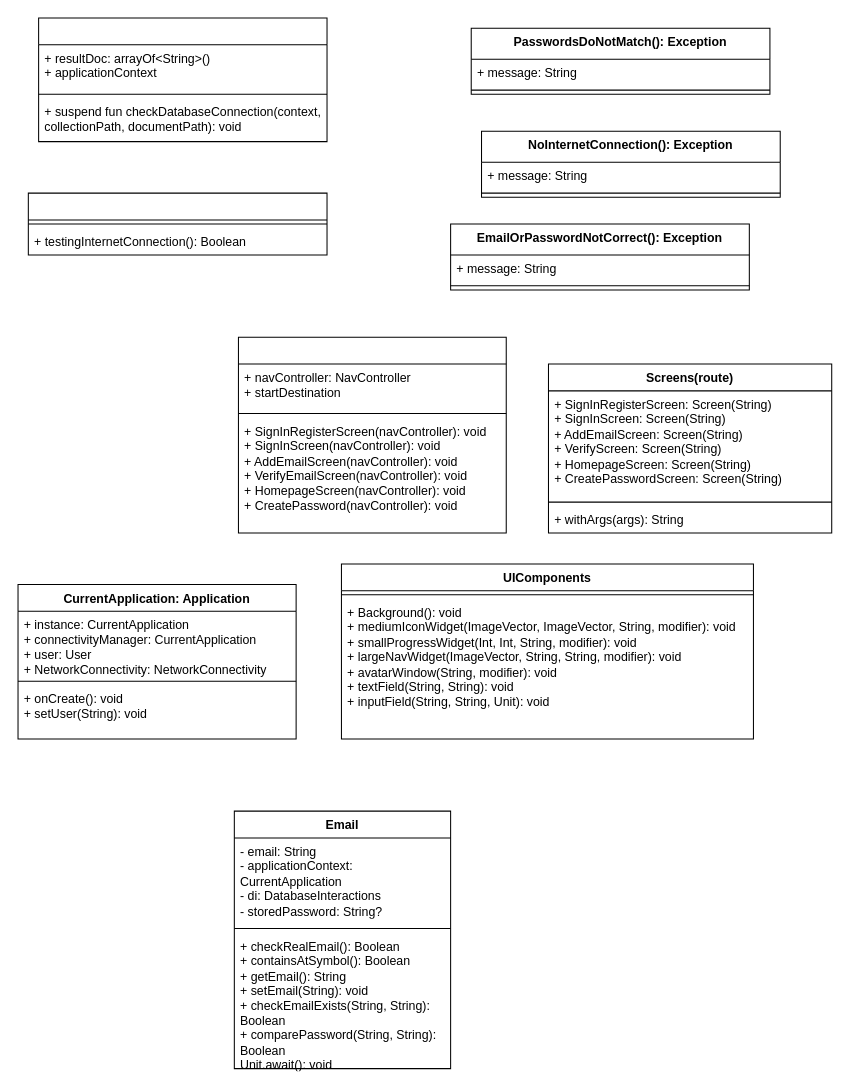
Image size: 850x1090. Some labels were removed from this diagram. Here are the shapes that lost their labels. From the top down, the box of each, then its label:
(38, 17, 327, 142): DatabaseInteractions
(27, 192, 327, 255): NetworkConnectivity (connectivityManageer)
(237, 336, 506, 533): Navigation()
